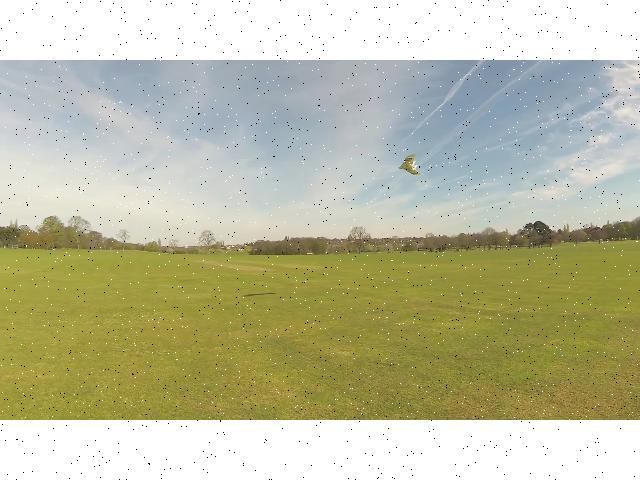Anti-Drone: (384, 146, 430, 187)
